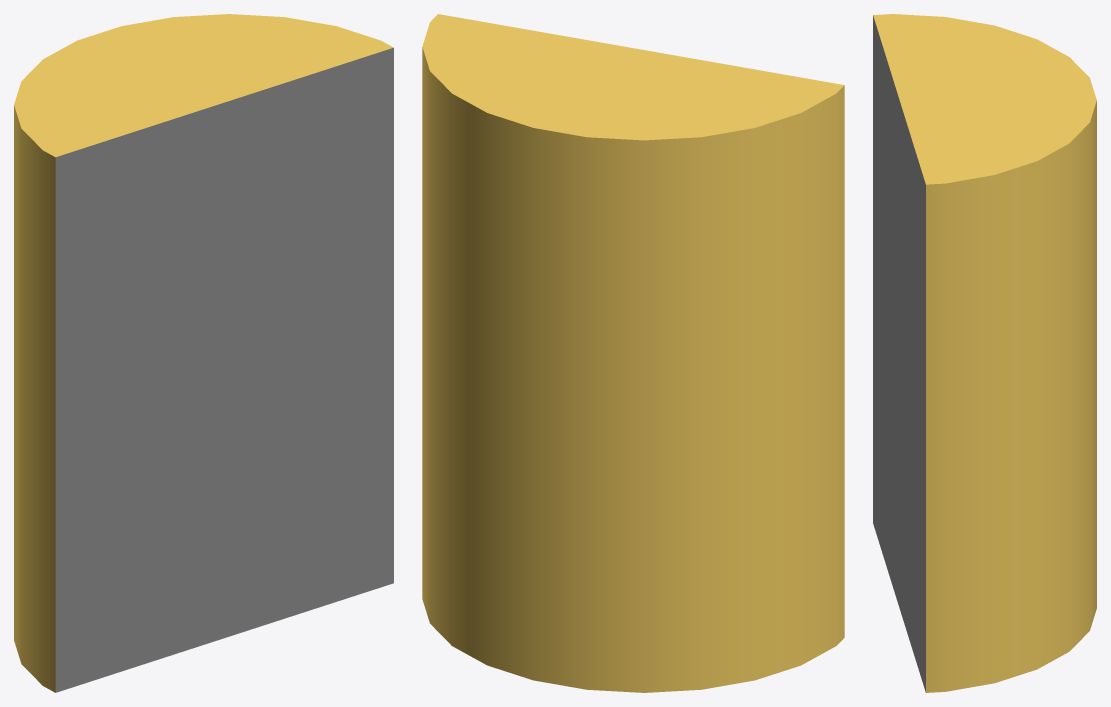
Rendered from Cil_Paralelo_BaseB.fbx.
The picture shows the model from 3 angles, left to right: view 1: azimuth 30°, elevation 25°; view 2: azimuth 150°, elevation 25°; view 3: azimuth 270°, elevation 25°; orthographic projection. The views are drawn at different scales.
Parts seen in each view (by area): view 1: Difference2; view 2: Difference2; view 3: Difference2.
Boxes of the visible parts, x1,y1,x2,y2 form: Difference2: (14,14,393,692); Difference2: (422,14,844,692); Difference2: (873,14,1096,692).
Bounding box in the file's own units: 98.93 × 137 × 54.82.
